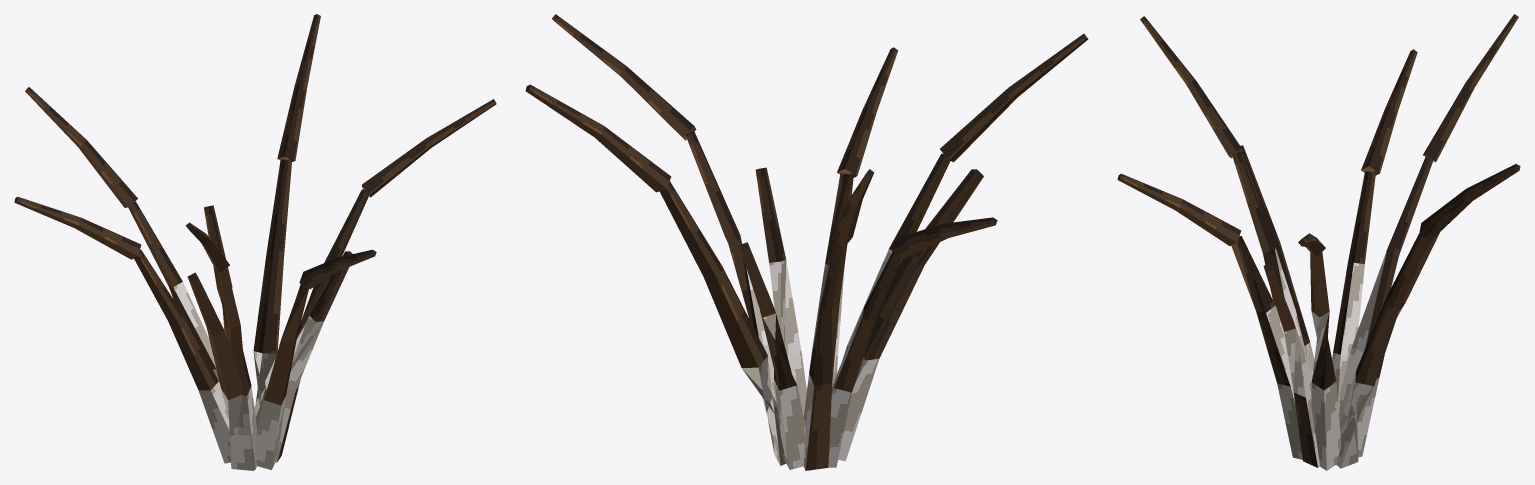
File: FLO-08_Salitrera.gltf
The picture shows the model from 3 angles, left to right: view 1: azimuth 30°, elevation 25°; view 2: azimuth 150°, elevation 25°; view 3: azimuth 270°, elevation 25°; orthographic projection. The views are drawn at different scales.
Parts seen in each view (by area): view 1: FLO-08_Salitrera; view 2: FLO-08_Salitrera; view 3: FLO-08_Salitrera.
Boxes of the visible parts, x1,y1,x2,y2 form: FLO-08_Salitrera: [14, 14, 496, 470]; FLO-08_Salitrera: [525, 14, 1088, 470]; FLO-08_Salitrera: [1117, 14, 1520, 470].
Bounding box in the file's own units: 0.9982 × 0.7658 × 0.7505.
1 material, 1 textured.
